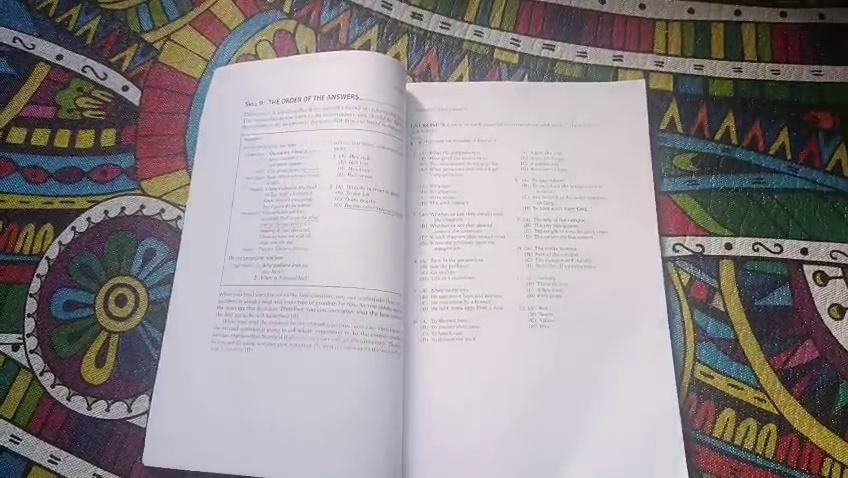Kertas: (356, 87, 645, 478), (214, 87, 466, 478)
